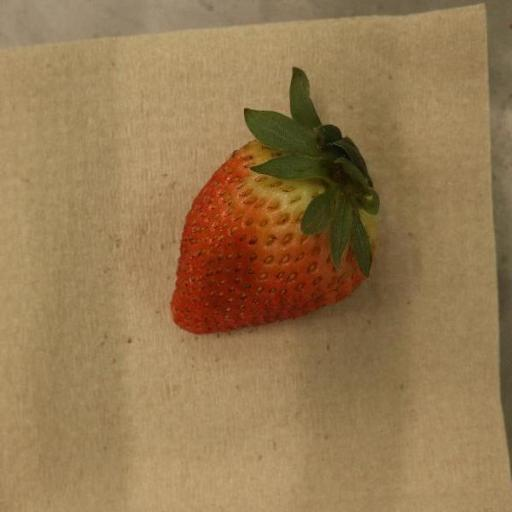Strawberry: (171, 67, 381, 335)
